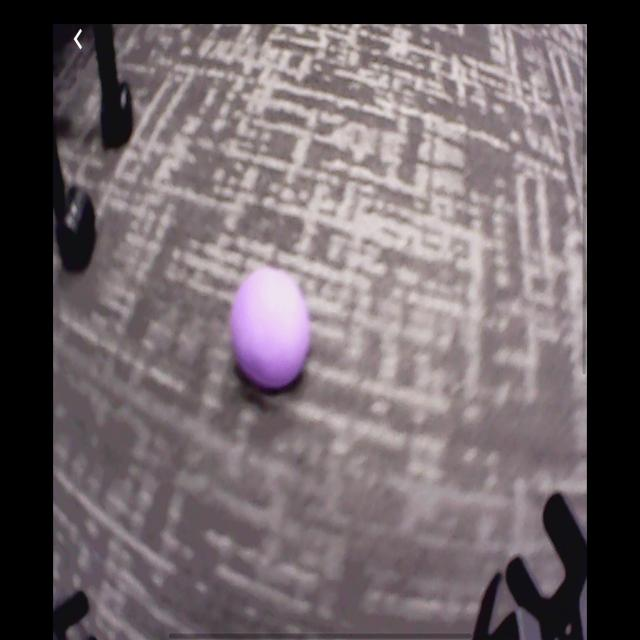ball: (231, 268, 311, 392)
